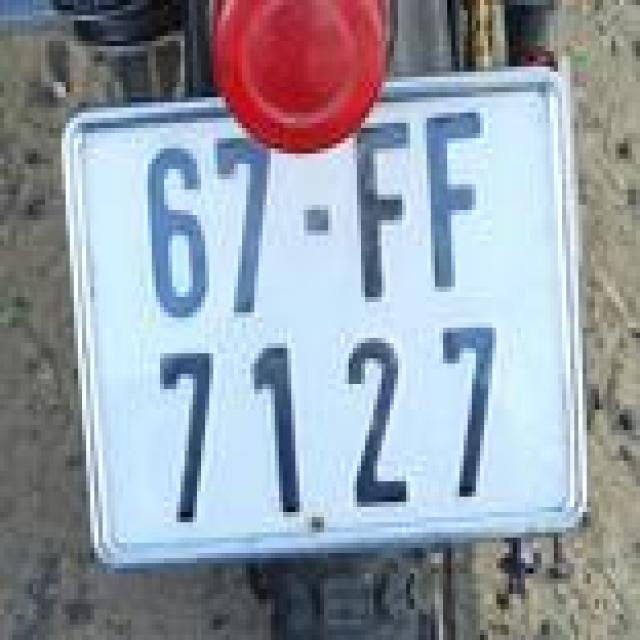1: (252, 328, 310, 527)
2: (347, 325, 412, 525)
6: (146, 131, 211, 330)
7: (422, 315, 513, 520), (140, 338, 222, 538), (213, 131, 283, 325)
F: (416, 100, 491, 289), (353, 108, 414, 307)
